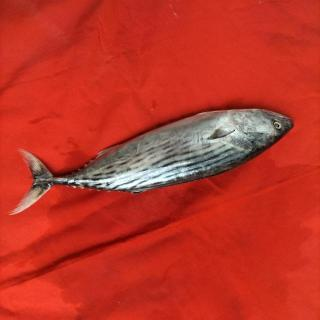Ikan: (13, 99, 300, 233)
